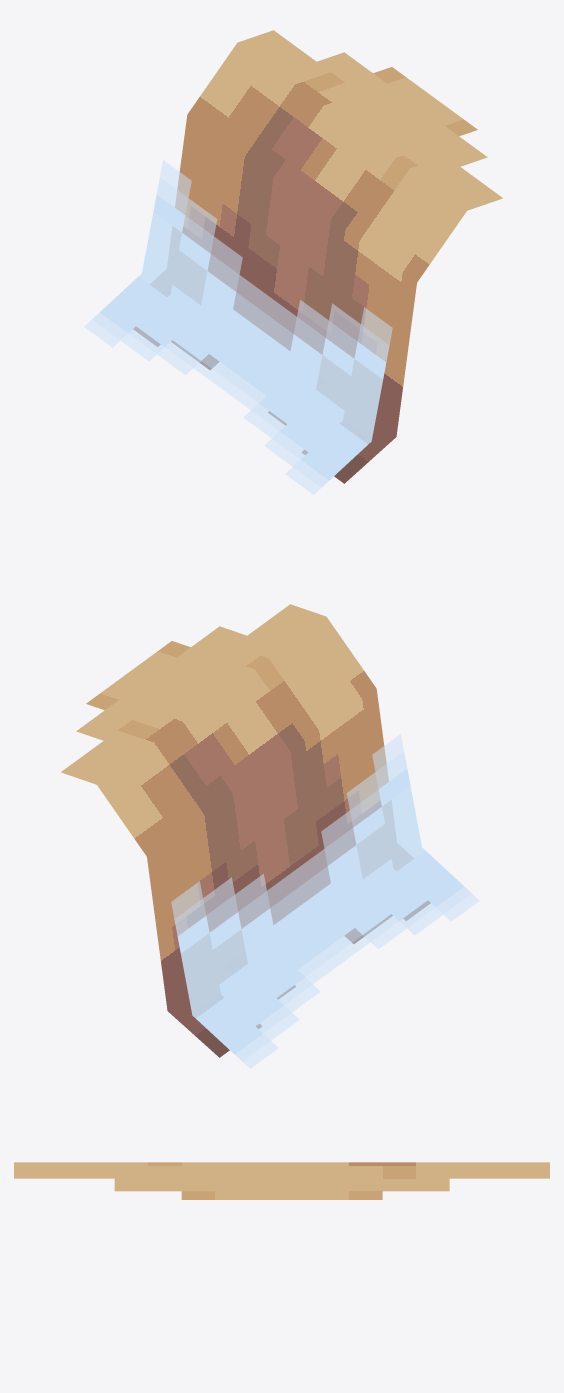
3 views of the same model, one above another, from view 1: azimuth 30°, elevation 25°; view 2: azimuth 150°, elevation 25°; view 3: azimuth 270°, elevation 25° (orthographic). The views are drawn at different scales.
Size of the model in its own units: 0.7695 by 0.7266 by 1.
Materials: 2 (2 with a texture image).
